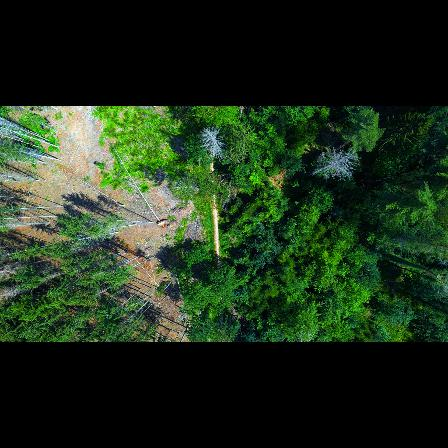Dead: (309, 146, 361, 182), (202, 124, 223, 161)
